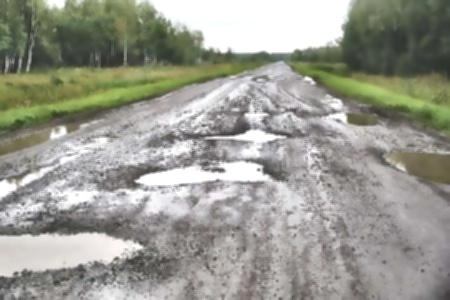pothole: (0, 225, 148, 281), (131, 157, 287, 187), (378, 146, 449, 183), (200, 127, 289, 143), (321, 107, 380, 128), (242, 109, 271, 118), (301, 74, 316, 84)
